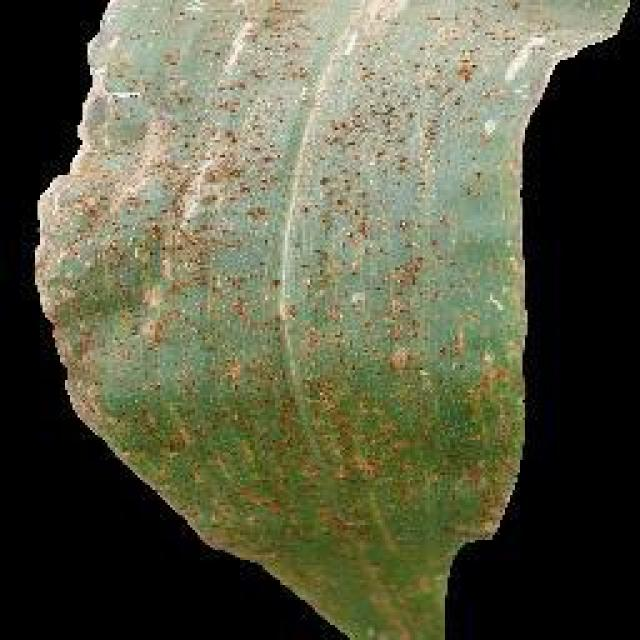Corn Common Rust: (90, 110, 550, 557)
